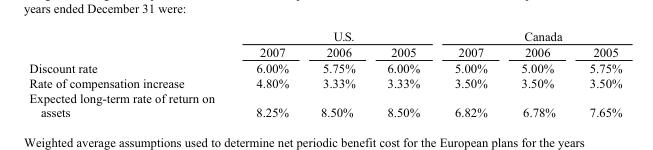table: (28, 28, 621, 119)
table column: (28, 28, 234, 119), (234, 28, 304, 119), (503, 28, 571, 119), (436, 28, 503, 119), (304, 28, 370, 119), (370, 28, 436, 119), (571, 28, 621, 119)
table column header: (28, 28, 621, 59)
table row: (28, 89, 621, 119), (28, 43, 621, 59), (28, 59, 621, 75), (28, 28, 621, 43), (28, 75, 621, 89)
table spanning cell: (234, 28, 436, 43), (436, 28, 621, 43)
